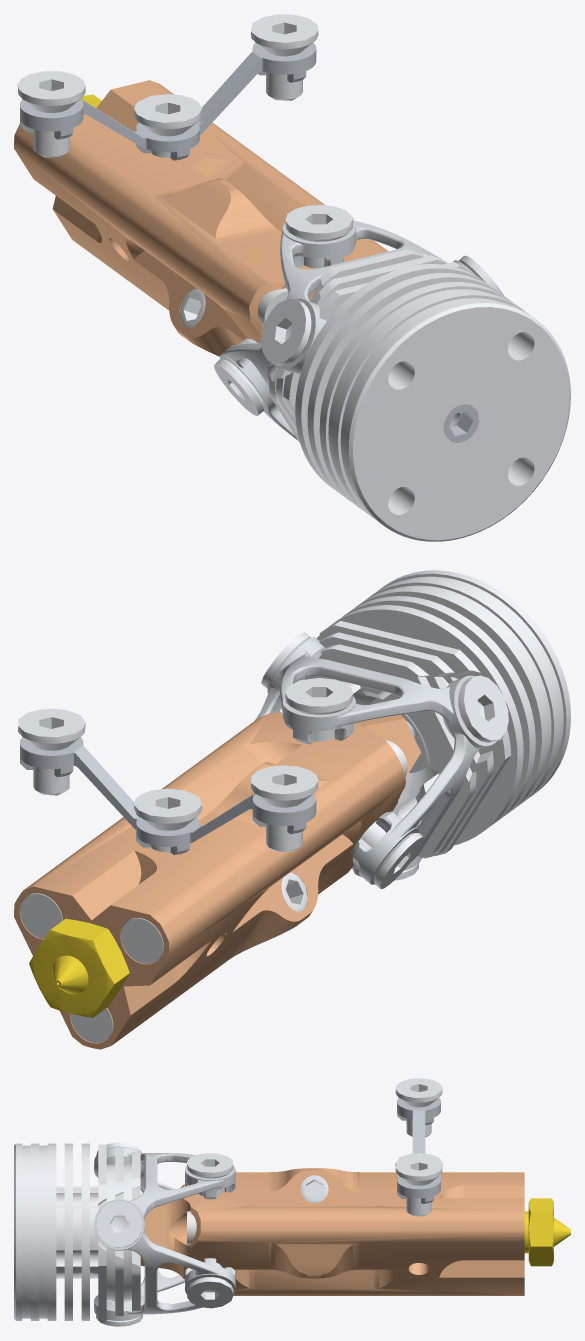
The picture shows the model from 3 angles, top to bottom: view 1: azimuth 30°, elevation 25°; view 2: azimuth 150°, elevation 25°; view 3: azimuth 270°, elevation 25°; orthographic projection. The views are drawn at different scales.
Visible parts, largest first — view 1: heatsink, cucrzr_hotblock, slm_ti_crown, hotend_brace, screw_10, screw_11, screw_2, screw_9, screw_4, screw_5, ti_heatbreak, screw_8; view 2: cucrzr_hotblock, heatsink, slm_ti_crown, nozzle, hotend_brace, screw_11, screw_10, screw_2, screw_9, screw_4, heater_1, screw_5 (+4 smaller); view 3: cucrzr_hotblock, heatsink, slm_ti_crown, nozzle, hotend_brace, screw_3, screw_10, screw_11, screw_0, screw_4, screw_7.
Boxes of the visible parts, x1,y1,x2,y2 form: heatsink: (269,249,570,541); cucrzr_hotblock: (14,80,387,356); slm_ti_crown: (220,220,473,440); hotend_brace: (20,42,316,160); screw_10: (250,14,318,100); screw_11: (17,71,85,157); screw_2: (261,298,311,365); screw_9: (134,94,202,157); screw_4: (285,205,353,268); screw_5: (214,359,264,415); ti_heatbreak: (443,404,479,442); screw_8: (179,288,205,327); cucrzr_hotblock: (14,712,420,1049); heatsink: (279,570,570,858); slm_ti_crown: (255,637,497,884); nozzle: (29,918,129,1017); hotend_brace: (20,737,316,855); screw_11: (251,765,318,852); screw_10: (18,708,85,795); screw_2: (458,675,508,742); screw_9: (134,788,201,852); screw_4: (285,677,353,741); heater_1: (121,740,407,963); screw_5: (359,821,424,888); cucrzr_hotblock: (140,1168,524,1295); heatsink: (14,1143,140,1320); slm_ti_crown: (94,1147,235,1320); nozzle: (524,1198,570,1266); hotend_brace: (397,1098,440,1203); screw_3: (96,1200,142,1247); screw_10: (395,1156,442,1216); screw_11: (395,1078,442,1137); screw_0: (187,1262,233,1308); screw_4: (186,1153,233,1196); screw_7: (300,1175,328,1202).
Size of the model in its own units: 0.0276 by 0.0248 by 0.066.
